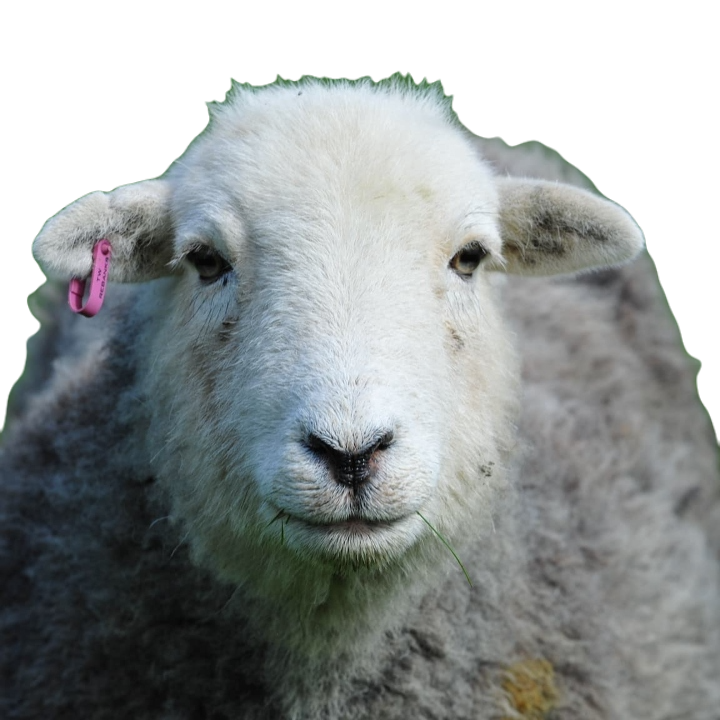Sheep: (0, 72, 719, 719)
